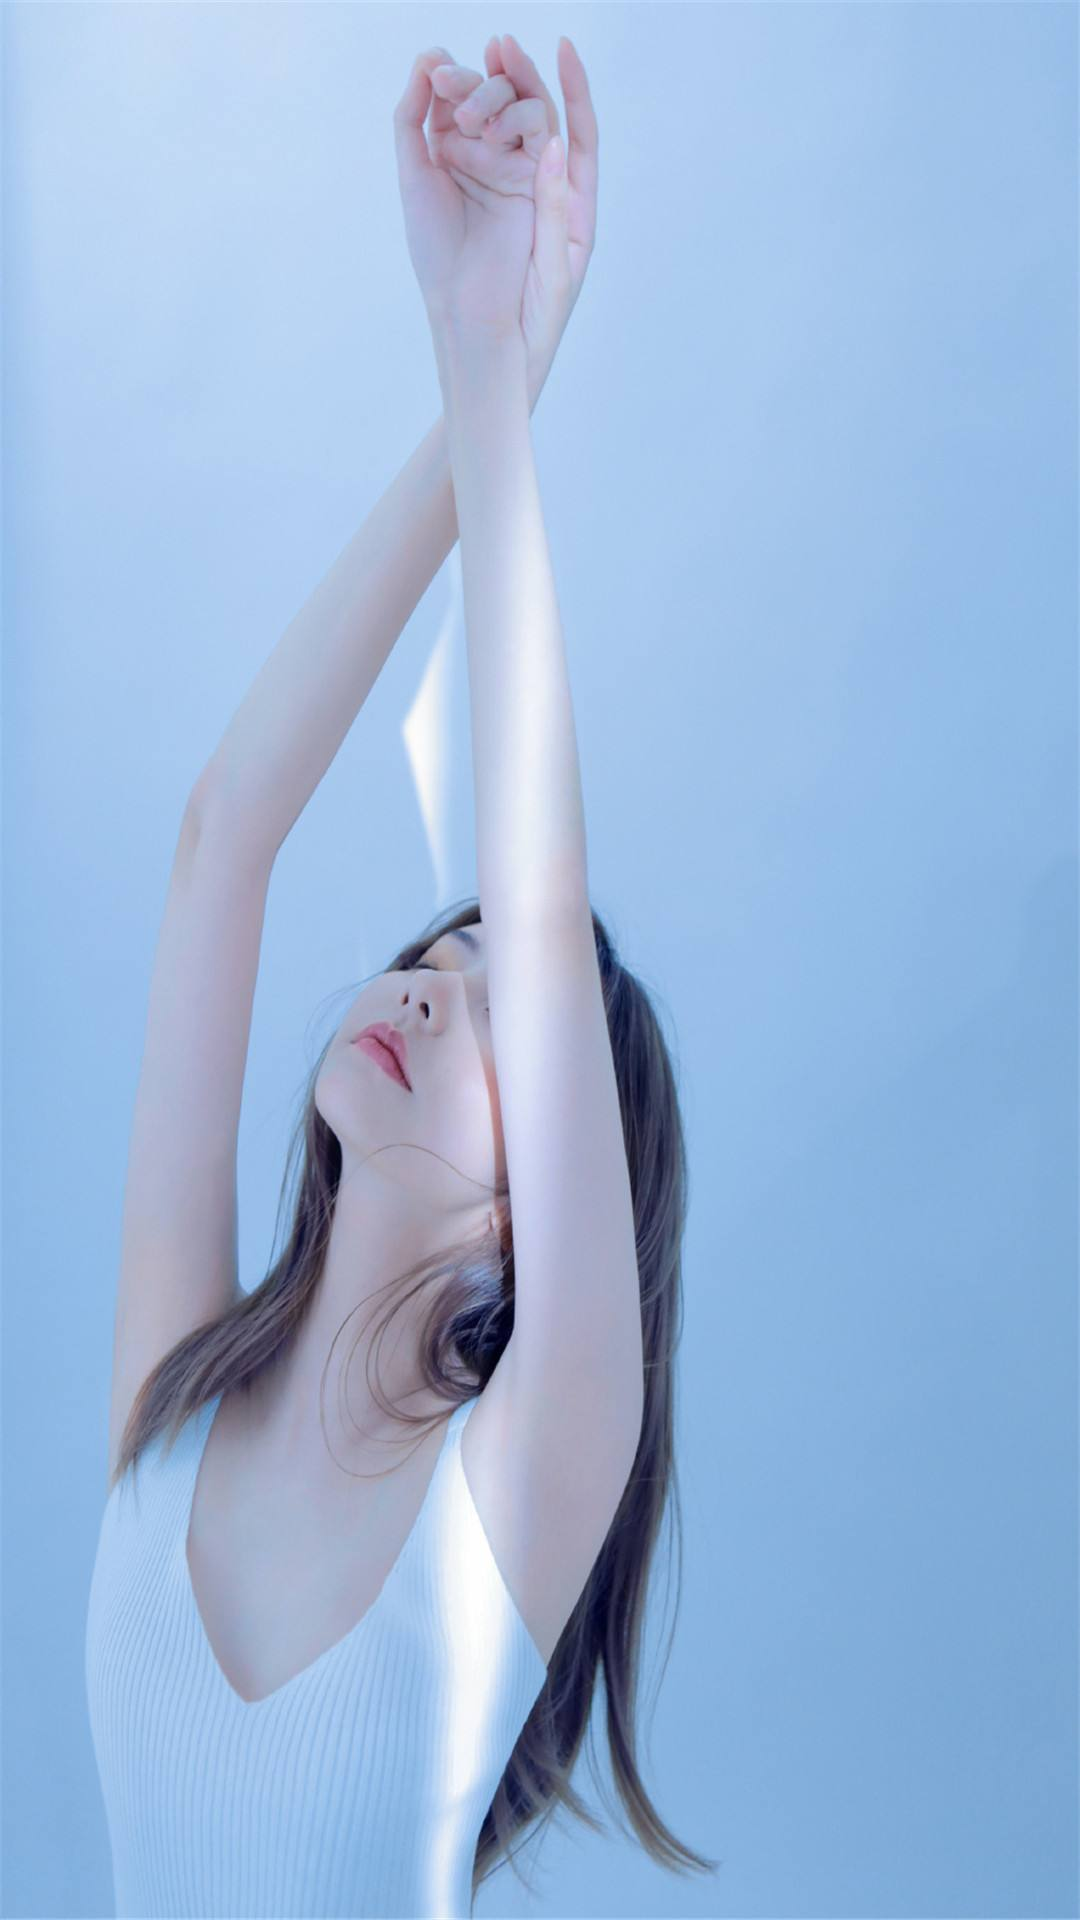person: (155, 370, 849, 1920)
